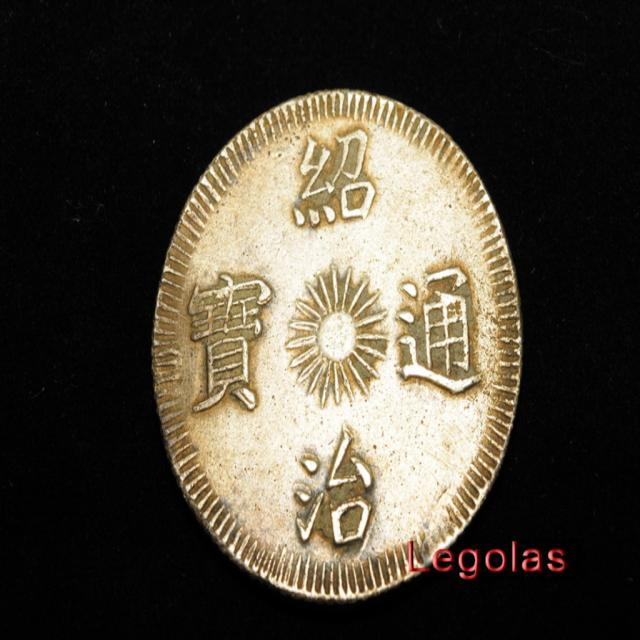Coin: (148, 83, 517, 603)
